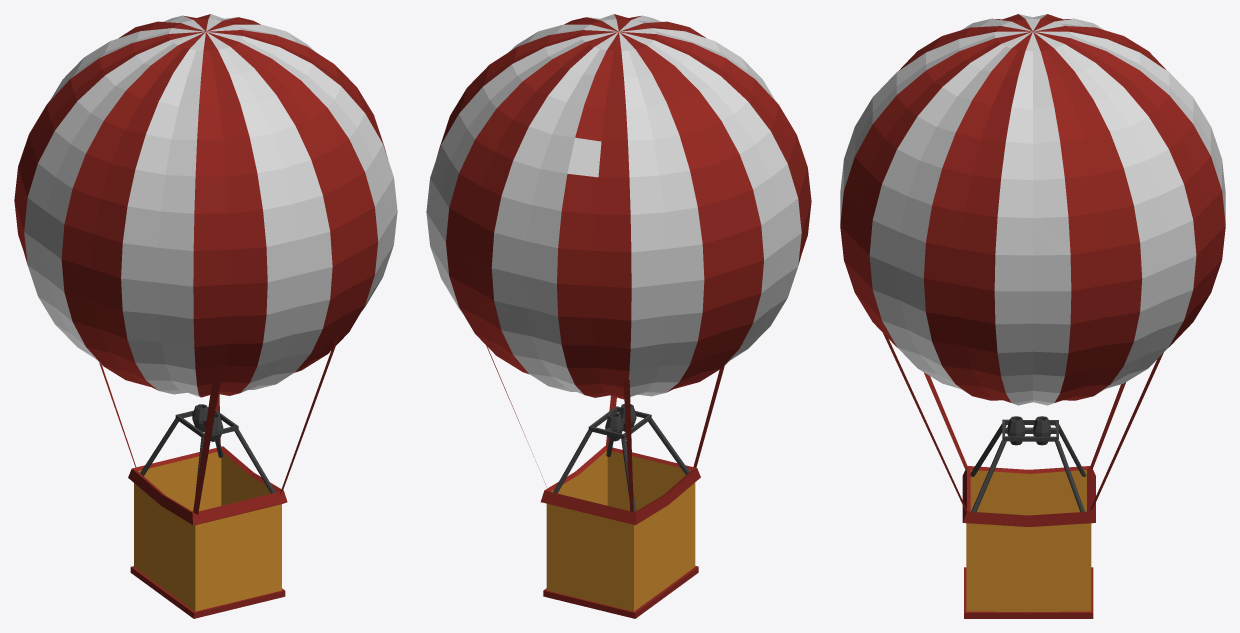
File: montgolfiere.gltf
The picture shows the model from 3 angles, left to right: view 1: azimuth 30°, elevation 25°; view 2: azimuth 150°, elevation 25°; view 3: azimuth 270°, elevation 25°; orthographic projection. The views are drawn at different scales.
Parts seen in each view (by area): view 1: montgolfiere; view 2: montgolfiere; view 3: montgolfiere.
Part boxes in pixels (bbox=[...]): montgolfiere: bbox=[14, 14, 397, 618]; montgolfiere: bbox=[426, 14, 811, 618]; montgolfiere: bbox=[840, 14, 1225, 618].
Size of the model in its own units: 0.1073 by 0.1733 by 0.1073.
Materials: 1 (1 with a texture image).
